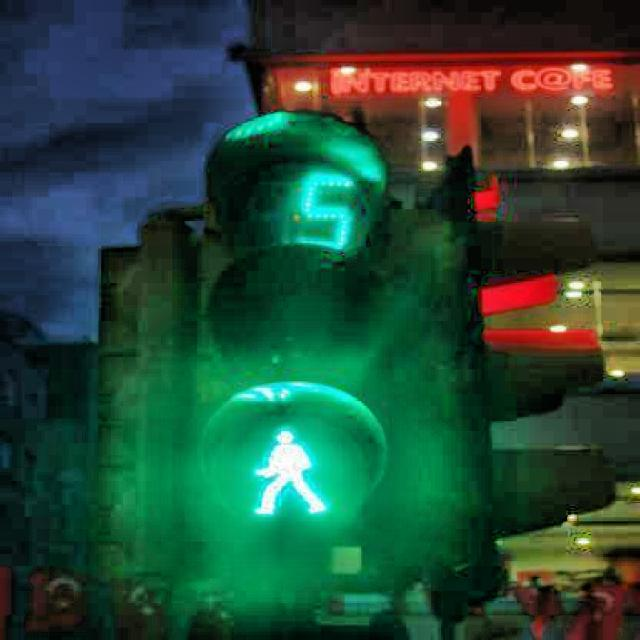semaforo pedestre: (148, 78, 458, 571)
